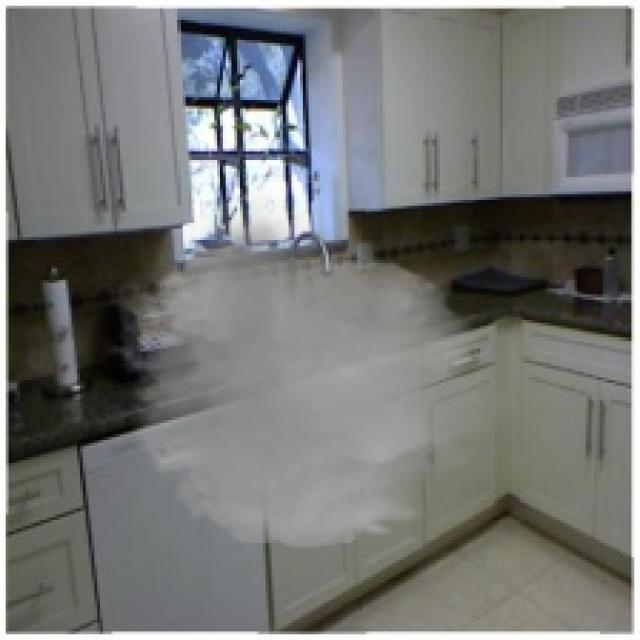Smoke: (100, 188, 526, 558)
